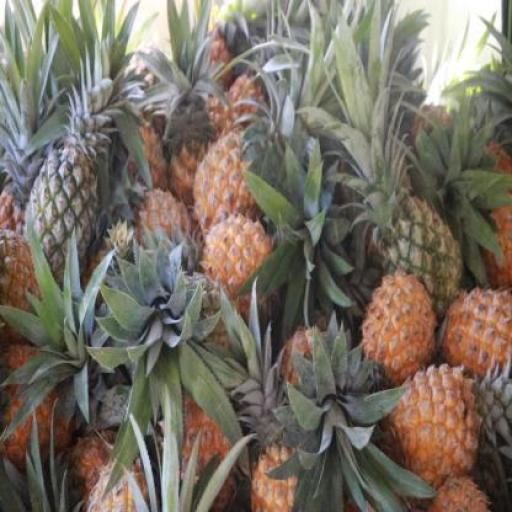Pineapple - v8 v1: (394, 368, 480, 490), (363, 276, 439, 391), (191, 134, 263, 236), (443, 286, 512, 380), (201, 223, 273, 312)
